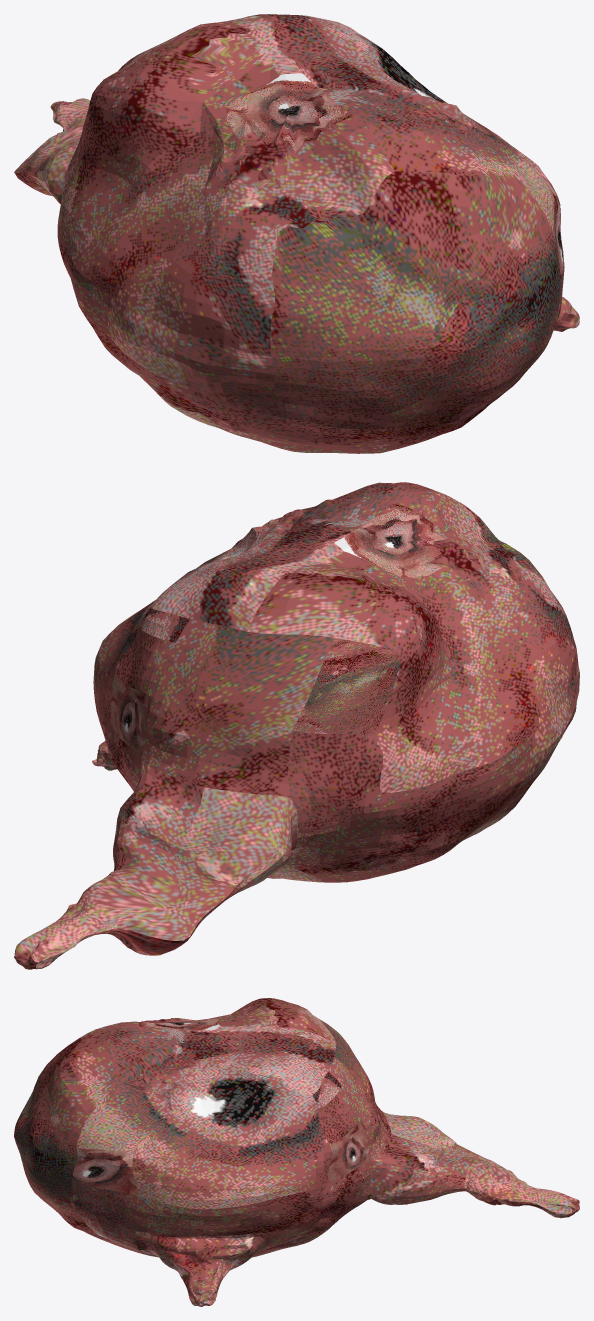
Rendered from Creature1.fbx.
3 views of the same model, one above another, from view 1: azimuth 30°, elevation 25°; view 2: azimuth 150°, elevation 25°; view 3: azimuth 270°, elevation 25° (orthographic). The views are drawn at different scales.
Visible parts, largest first — view 1: Cube; view 2: Cube; view 3: Cube.
Part boxes in pixels (x1,y1,x2,y2): Cube: [14, 14, 579, 453]; Cube: [14, 482, 579, 969]; Cube: [14, 998, 579, 1306].
Size of the model in its own units: 323 by 226 by 525.
